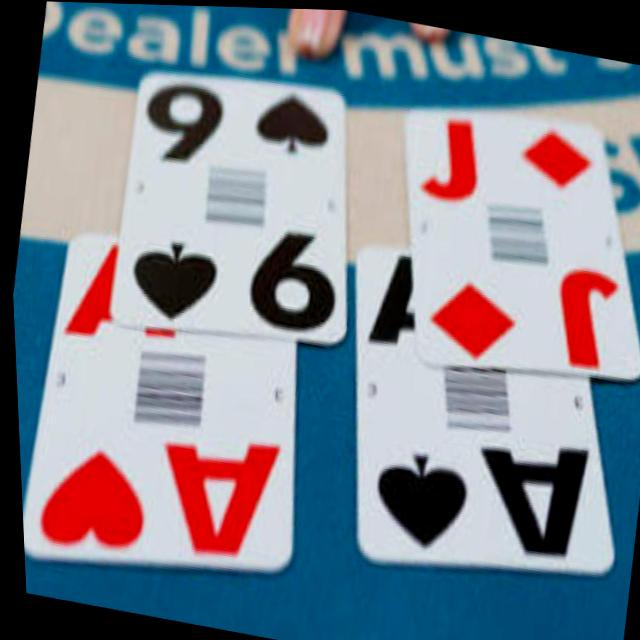Card-9: (111, 68, 340, 332)
Card-A: (19, 234, 294, 560), (359, 244, 608, 559)
Card-J: (406, 110, 640, 370)
